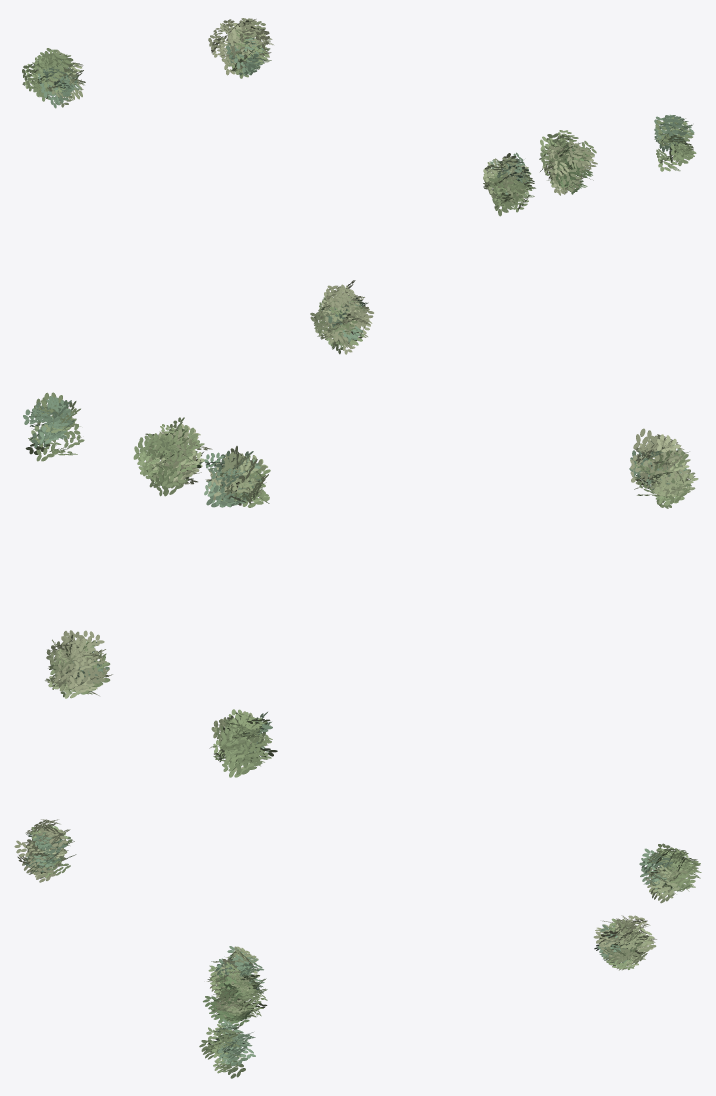
File: campus-tree-2_-3-far.glb
The picture shows the model from 3 angles, top to bottom: view 1: azimuth 30°, elevation 25°; view 2: azimuth 150°, elevation 25°; view 3: azimuth 270°, elevation 25°; orthographic projection. The views are drawn at different scales.
Visible parts, largest first — view 1: Campus leaf canopy; view 2: Campus leaf canopy; view 3: Campus leaf canopy.
Part boxes in pixels (left/top/right/bottom): Campus leaf canopy: left=22, top=18, right=696, bottom=354; Campus leaf canopy: left=23, top=392, right=698, bottom=777; Campus leaf canopy: left=14, top=819, right=701, bottom=1078.
Size of the model in its own units: 47.34 by 6.86 by 61.05.
1 material, 1 textured.
